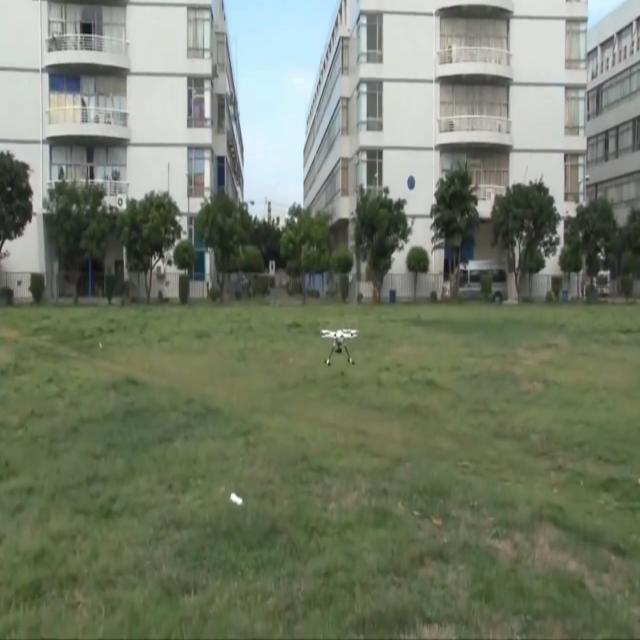drone: (320, 326, 359, 366)
